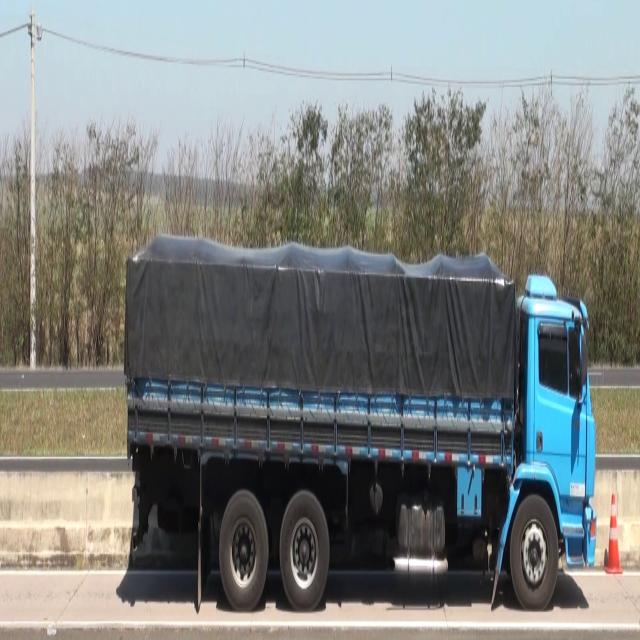-axle: (278, 489, 332, 618), (220, 485, 268, 610), (511, 498, 559, 610)
